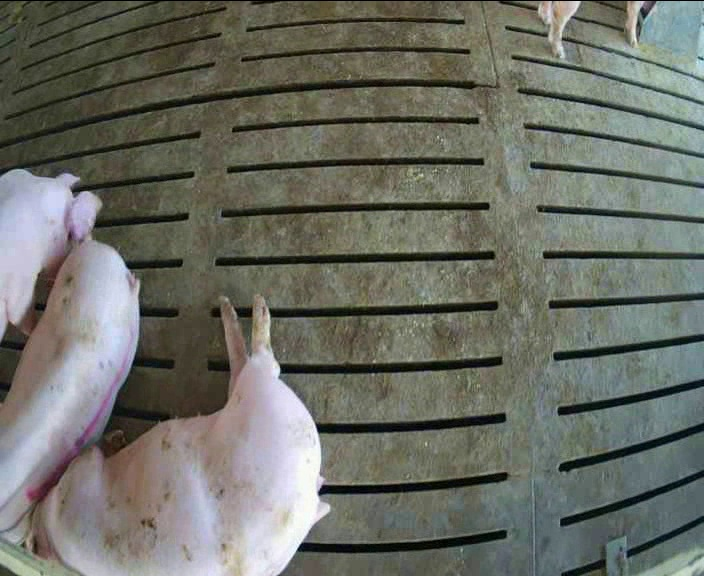pig: (25, 295, 328, 575), (0, 240, 138, 545), (0, 169, 101, 340)
